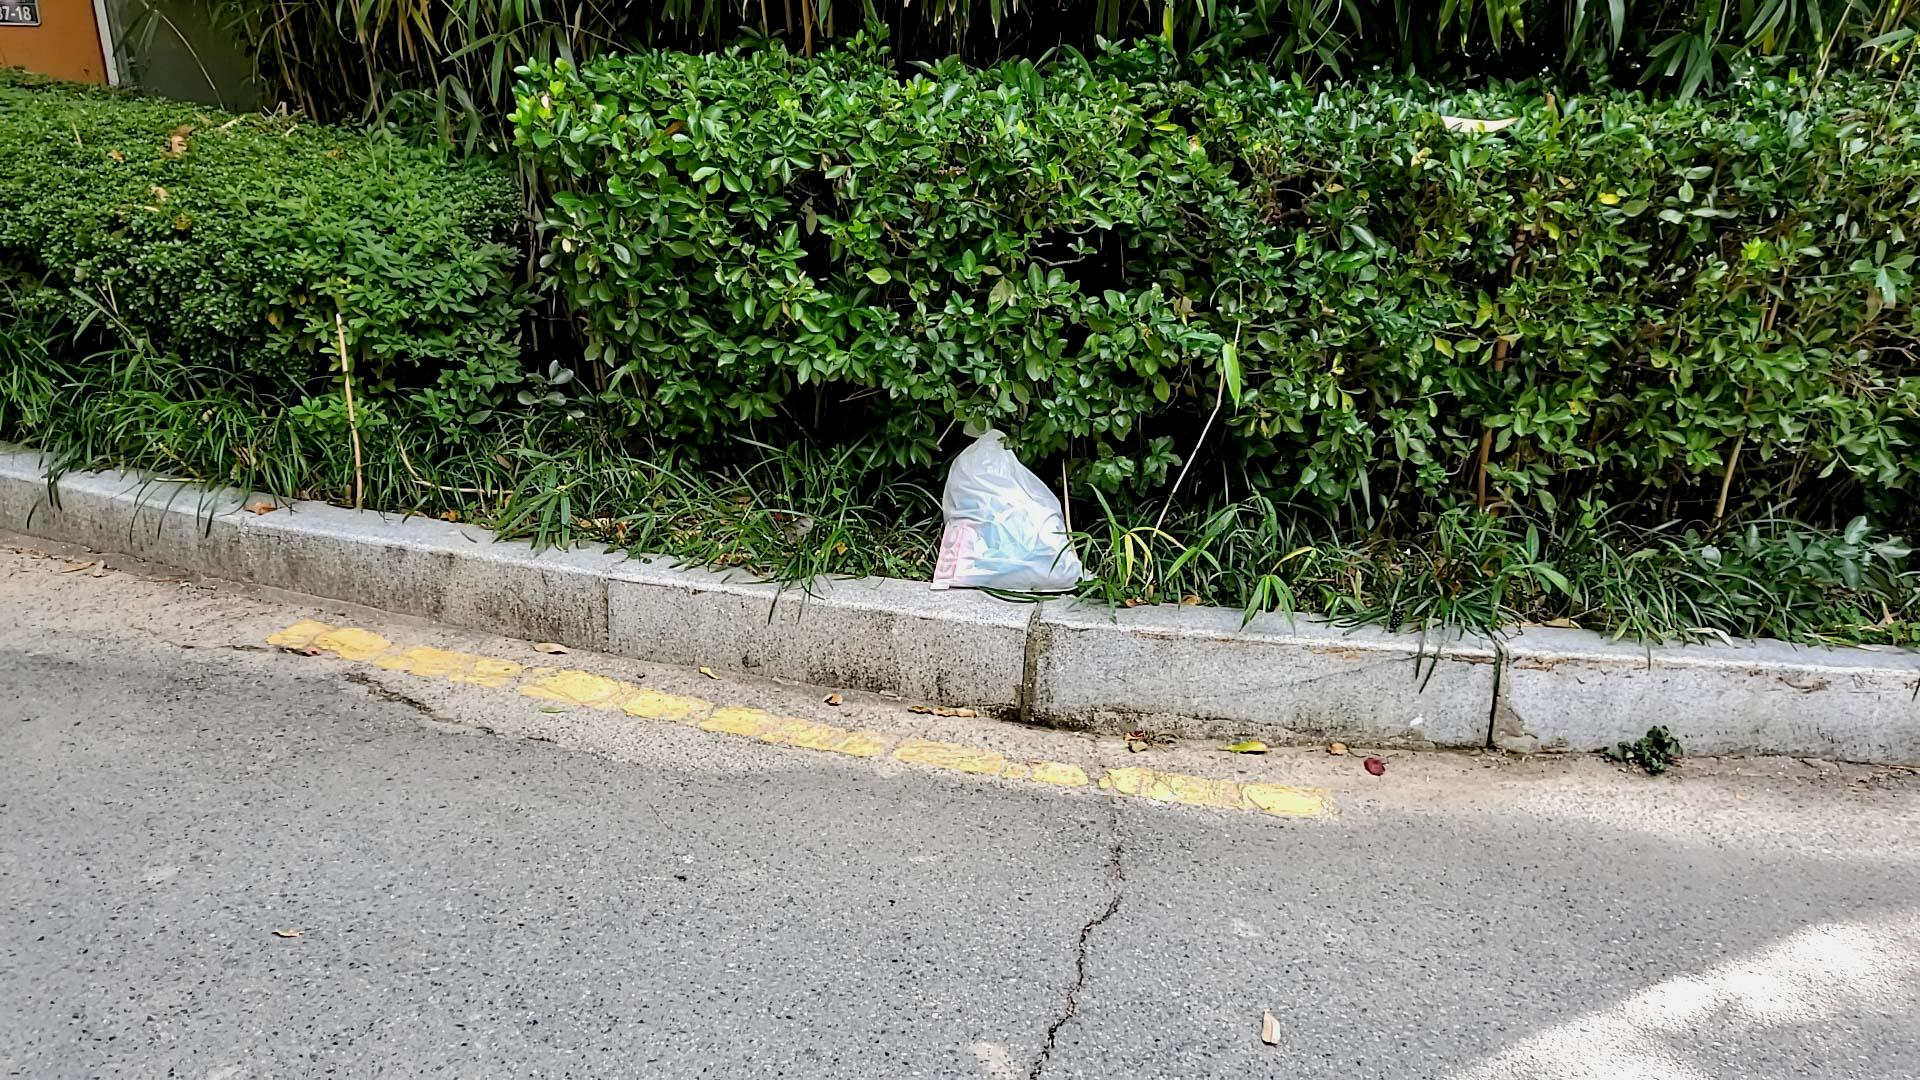white_bag: (920, 411, 1106, 609)
